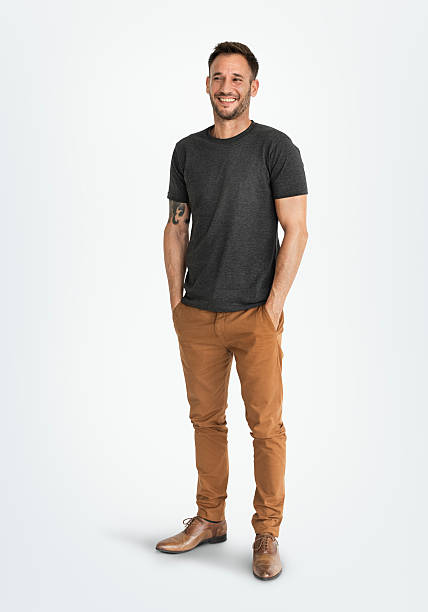person: (154, 39, 311, 582)
